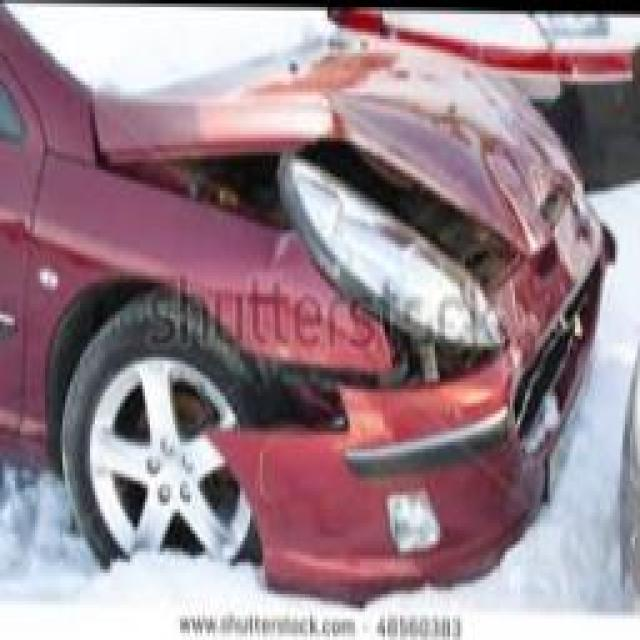rapairable: (218, 339, 352, 487)
replaceable: (286, 79, 600, 332)
